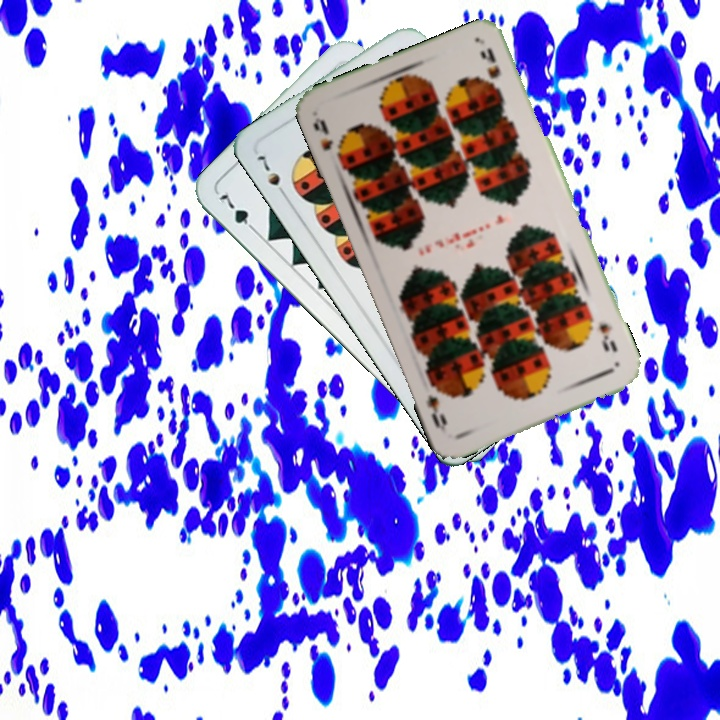G7: (215, 190, 260, 236)
S7: (252, 151, 290, 201)
S9: (309, 113, 348, 166), (595, 319, 620, 355)
